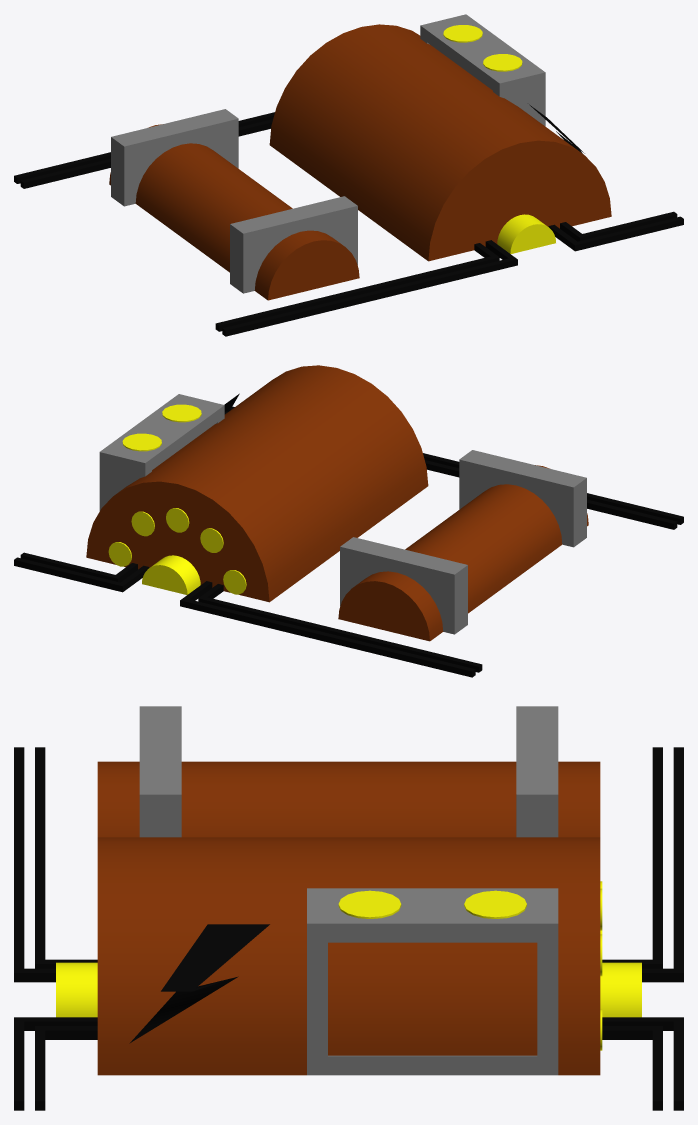
Rendered from generator.glb.
3 views of the same model, one above another, from view 1: azimuth 30°, elevation 25°; view 2: azimuth 150°, elevation 25°; view 3: azimuth 270°, elevation 25° (orthographic). The views are drawn at different scales.
Visible parts, largest first — view 1: Asset3DLoader.sceneRoot; view 2: Asset3DLoader.sceneRoot; view 3: Asset3DLoader.sceneRoot.
Part boxes in pixels (left/top/right/bottom): Asset3DLoader.sceneRoot: left=14, top=14, right=683, bottom=336; Asset3DLoader.sceneRoot: left=14, top=365, right=683, bottom=677; Asset3DLoader.sceneRoot: left=14, top=706, right=683, bottom=1110.
Bounding box in the file's own units: 10 × 2.03 × 8.
